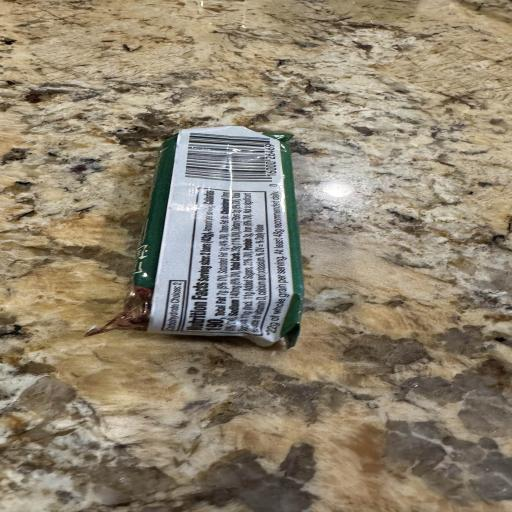granola: (87, 127, 303, 346)
